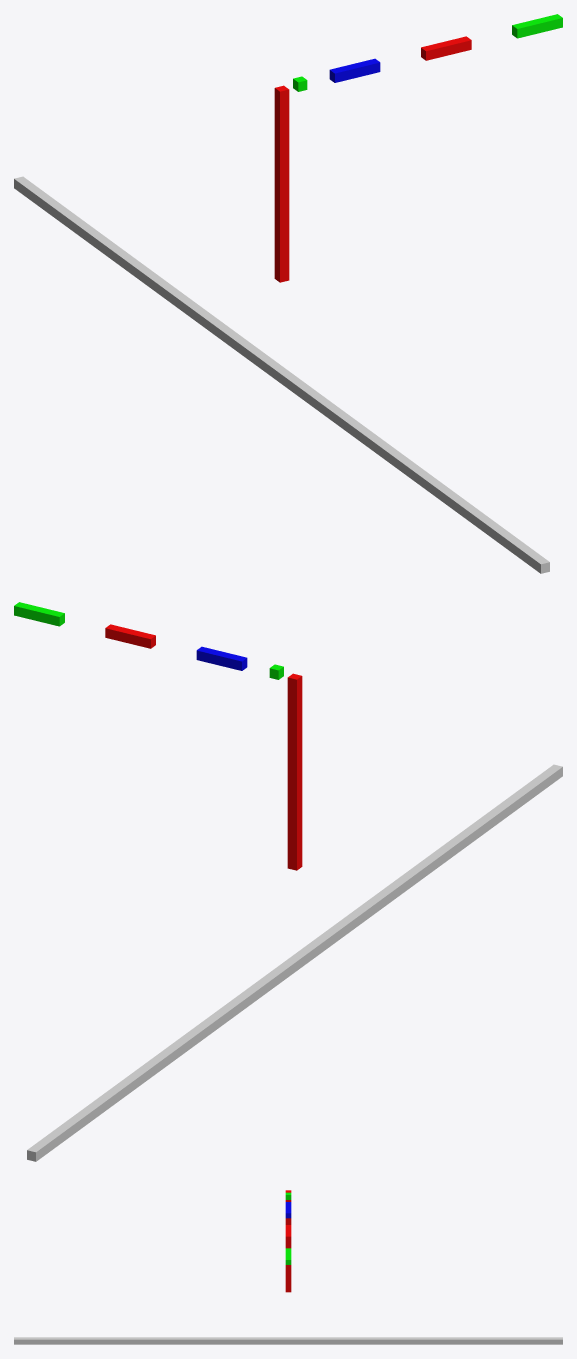
Rendered from arcsys2.dae.
3 views of the same model, one above another, from view 1: azimuth 30°, elevation 25°; view 2: azimuth 150°, elevation 25°; view 3: azimuth 270°, elevation 25° (orthographic). The views are drawn at different scales.
Visible parts, largest first — view 1: rail, shaft, arm1, arm2, effector; view 2: rail, shaft, arm1, arm2, effector; view 3: rail, shaft.
Boxes of the visible parts, left/top/right/bottom form: rail: left=14, top=176, right=549, bottom=573; shaft: left=274, top=85, right=289, bottom=282; arm1: left=329, top=58, right=380, bottom=82; arm2: left=421, top=36, right=471, bottom=60; effector: left=512, top=14, right=562, bottom=38; rail: left=27, top=764, right=562, bottom=1161; shaft: left=287, top=673, right=302, bottom=870; arm1: left=196, top=646, right=247, bottom=670; arm2: left=105, top=624, right=155, bottom=648; effector: left=14, top=602, right=64, bottom=626; rail: left=14, top=1337, right=562, bottom=1344; shaft: left=285, top=1190, right=291, bottom=1292.
Size of the model in its own units: 1.55 by 5 by 1.55.
